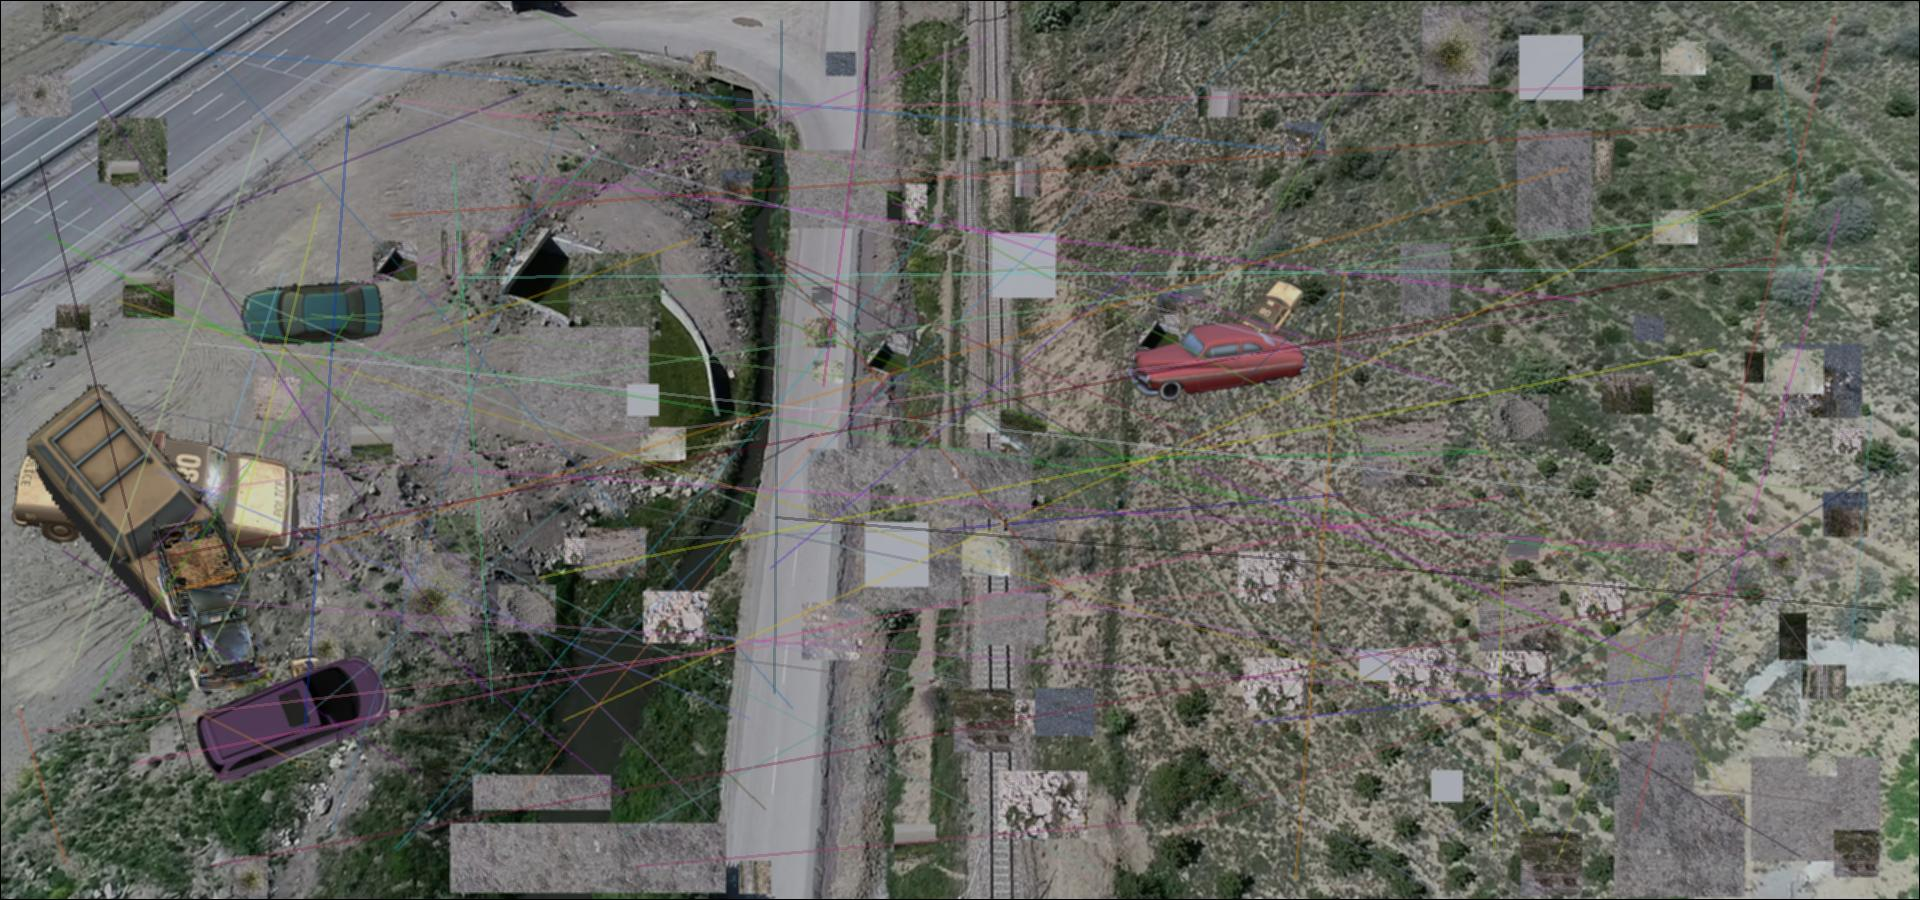arac: (27, 373, 258, 634), (2, 418, 305, 580), (192, 647, 389, 785), (149, 506, 274, 691), (1125, 323, 1311, 403), (239, 280, 387, 348), (1234, 279, 1304, 353), (285, 654, 340, 711)
